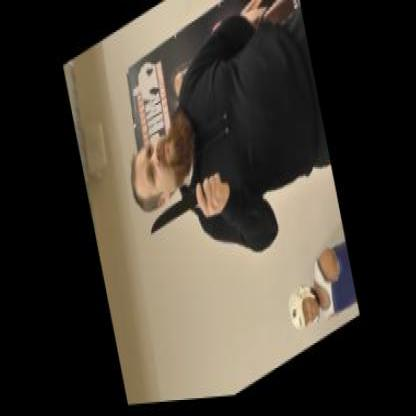knife: (144, 171, 226, 254)
